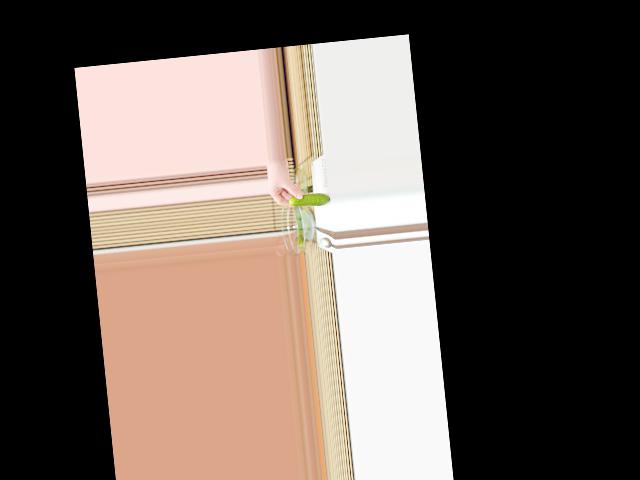cucumber: (288, 191, 330, 208)
